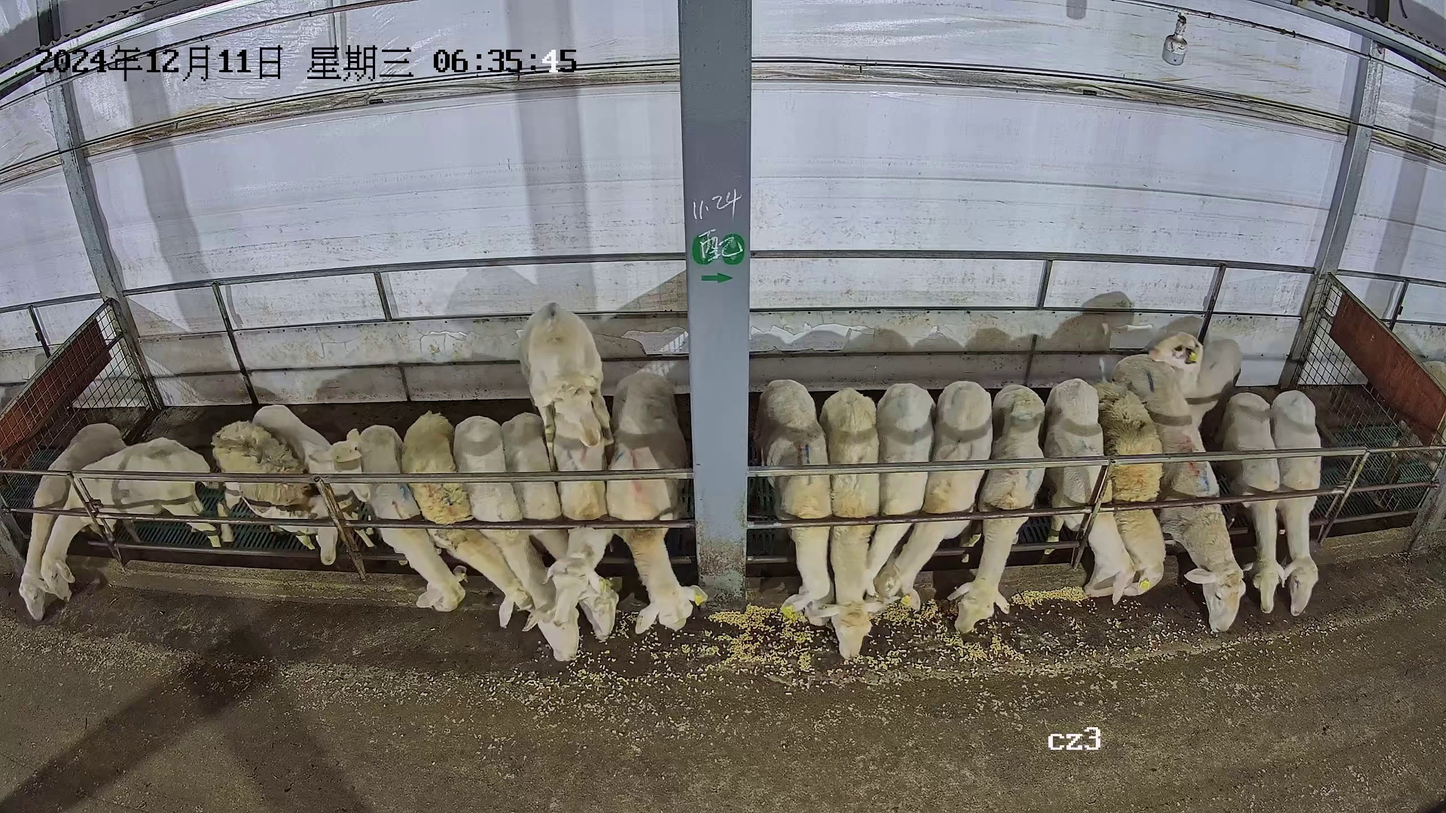Nmounting: (509, 297, 620, 621)
